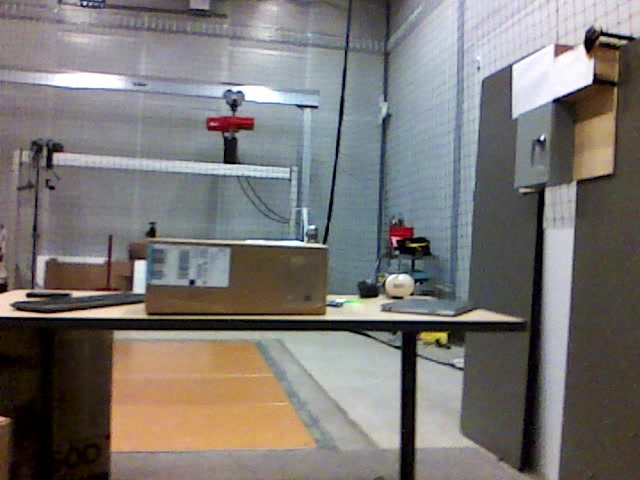box: (1, 326, 112, 475), (147, 239, 328, 318)
